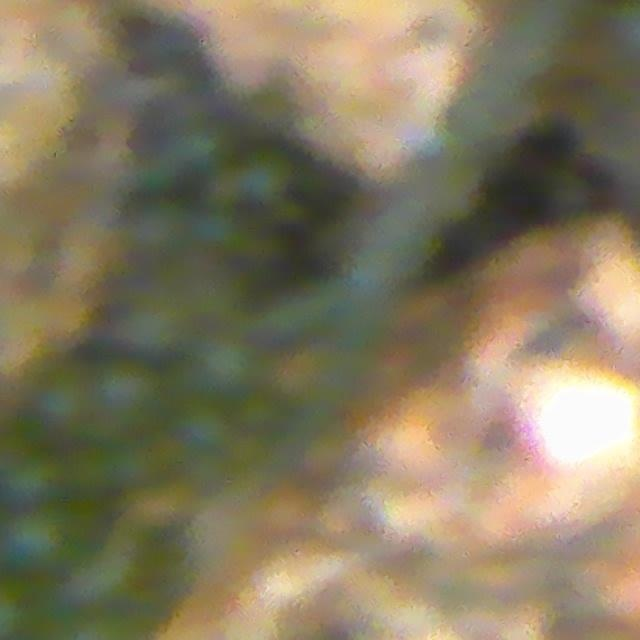SeaGrape: (92, 358, 164, 433), (1, 505, 71, 574), (193, 332, 263, 400), (32, 365, 96, 434), (175, 400, 233, 457), (238, 148, 295, 205)
